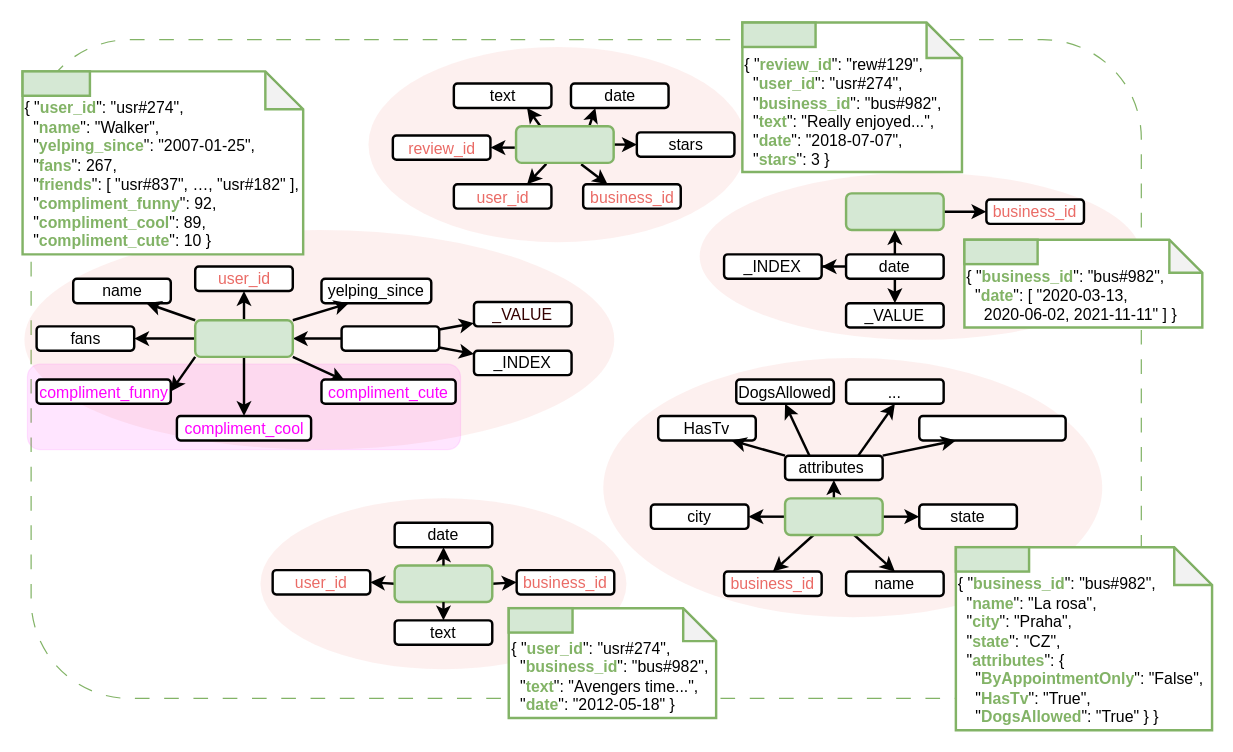
Some shapes in this 1233 by 752 pixel diagram are drawn without their labels. Here are the shapes that lost their labels. From the top down, the centre of each, then its label:
[778,34]: Review
[56,83]: User
[564,143]: Review {review_id}
[894,211]: Checkin { business_id}
[1000,251]: Checkin
[243,337]: User {user_id}
[390,338]: friends
[991,427]: ByAppointmentOnly
[833,516]: Business {business_id}
[992,558]: Business
[443,583]: Tip {user_id, business_id}
[540,619]: Tip
